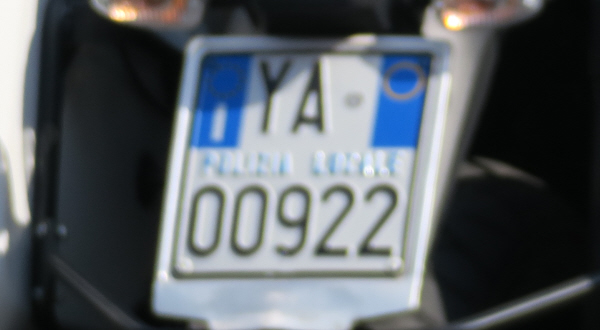license_plate: (171, 46, 434, 278)
